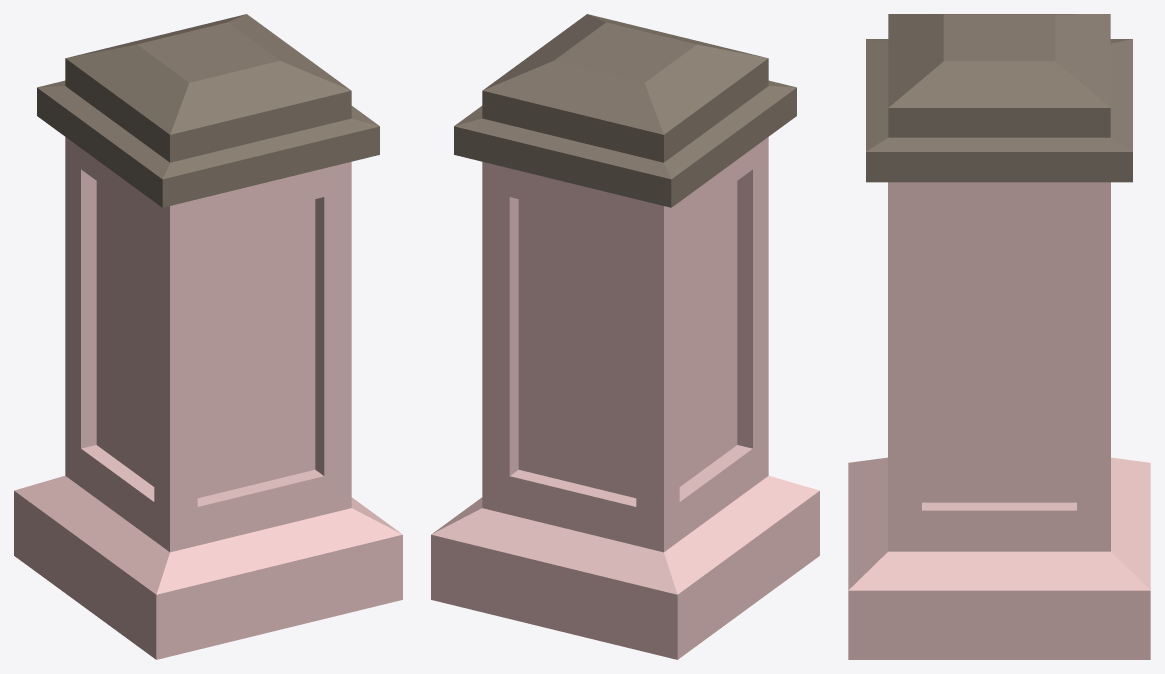
File: SM_Bld_Stone_Wall_End_Top_01.glb
3 views of the same model, side by side, from view 1: azimuth 30°, elevation 25°; view 2: azimuth 150°, elevation 25°; view 3: azimuth 270°, elevation 25° (orthographic). The views are drawn at different scales.
Visible parts, largest first — view 1: SM_Bld_Stone_Wall_End_Top_01_00; view 2: SM_Bld_Stone_Wall_End_Top_01_00; view 3: SM_Bld_Stone_Wall_End_Top_01_00.
Boxes of the visible parts, box(x1,y1,x2,y2) form: SM_Bld_Stone_Wall_End_Top_01_00: box(14, 14, 402, 659); SM_Bld_Stone_Wall_End_Top_01_00: box(431, 14, 819, 659); SM_Bld_Stone_Wall_End_Top_01_00: box(848, 14, 1150, 659).
Size of the model in its own units: 0.5094 by 1.04 by 0.5094.
Materials: 1 (1 with a texture image).
